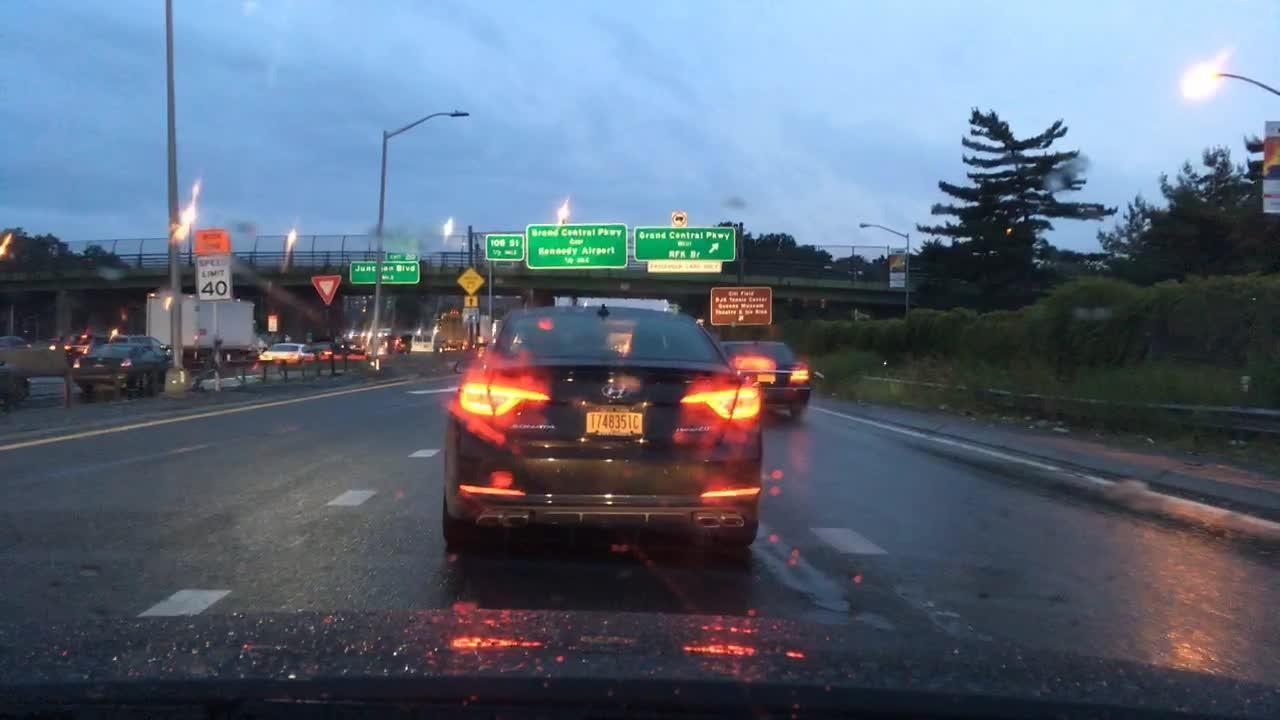Hyundai: (600, 376, 629, 406)
